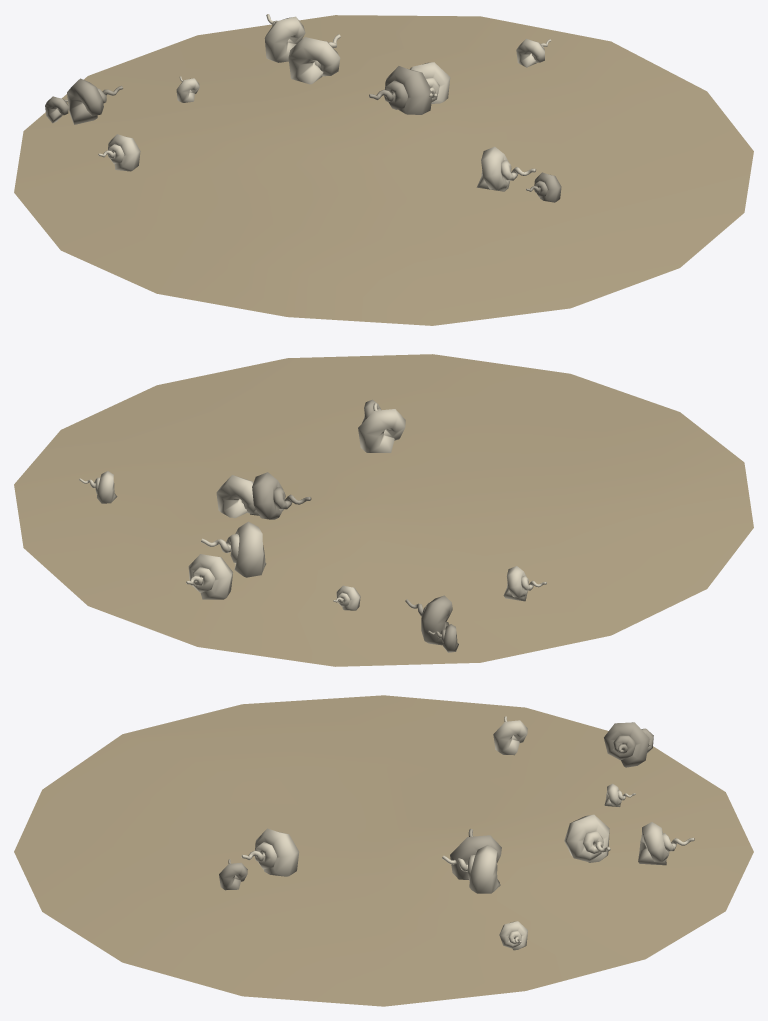
File: lake-shells-shallows-0.glb
3 views of the same model, one above another, from view 1: azimuth 30°, elevation 25°; view 2: azimuth 150°, elevation 25°; view 3: azimuth 270°, elevation 25° (orthographic).
Visible parts, largest first — view 1: lake-shells-shallows-0; view 2: lake-shells-shallows-0; view 3: lake-shells-shallows-0.
Part boxes in pixels (x1=…): lake-shells-shallows-0: x1=14, y1=14, x2=753, y2=325; lake-shells-shallows-0: x1=14, y1=354, x2=753, y2=666; lake-shells-shallows-0: x1=14, y1=695, x2=753, y2=1006.
Size of the model in its own units: 0.3 by 0.0246 by 0.3.
